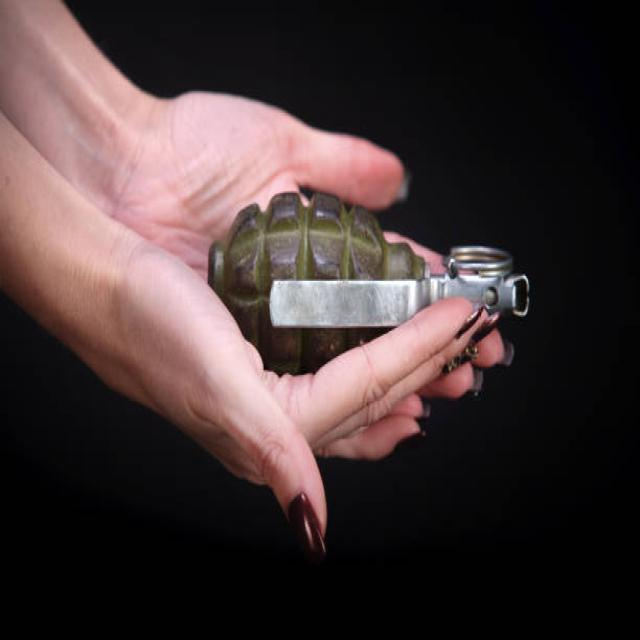grenade: (208, 187, 536, 378)
